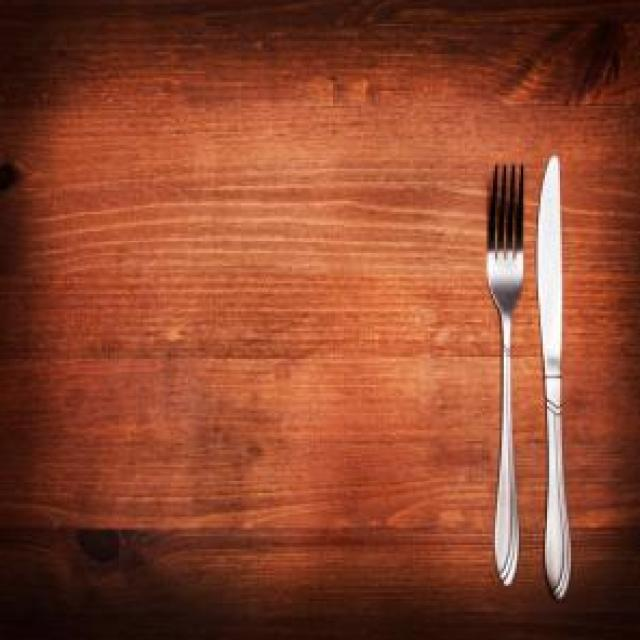knife: (534, 151, 572, 599)
